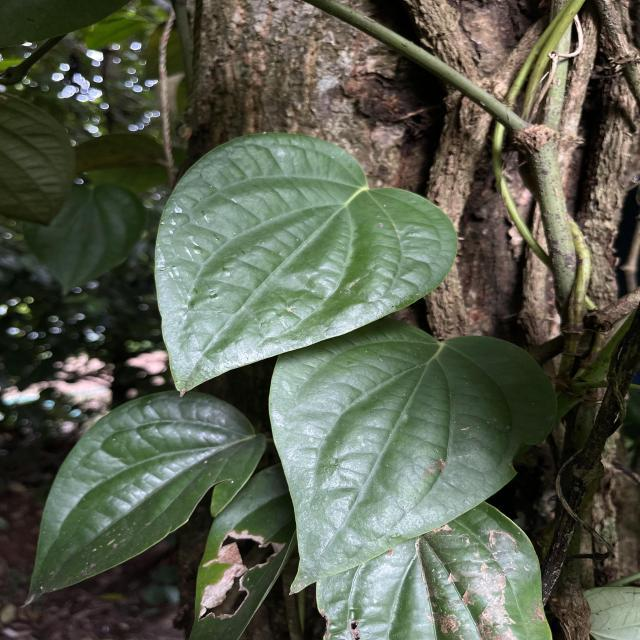Piper nigrum: (267, 310, 564, 598), (150, 128, 462, 399)
